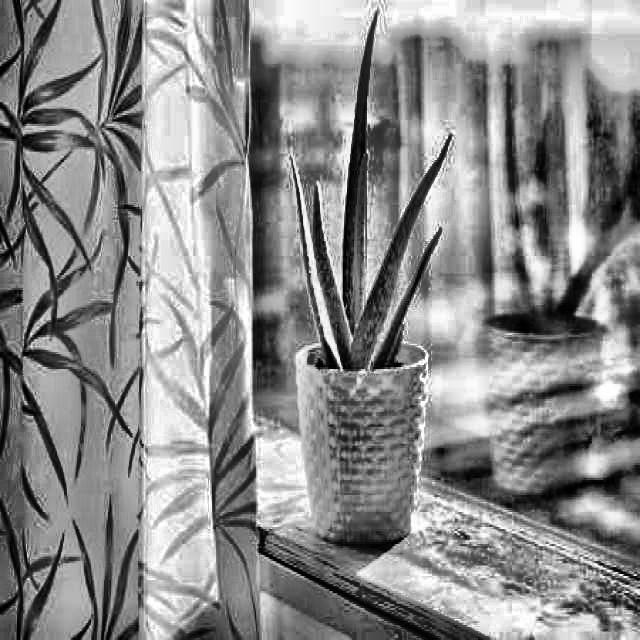plants: (266, 18, 453, 546)
